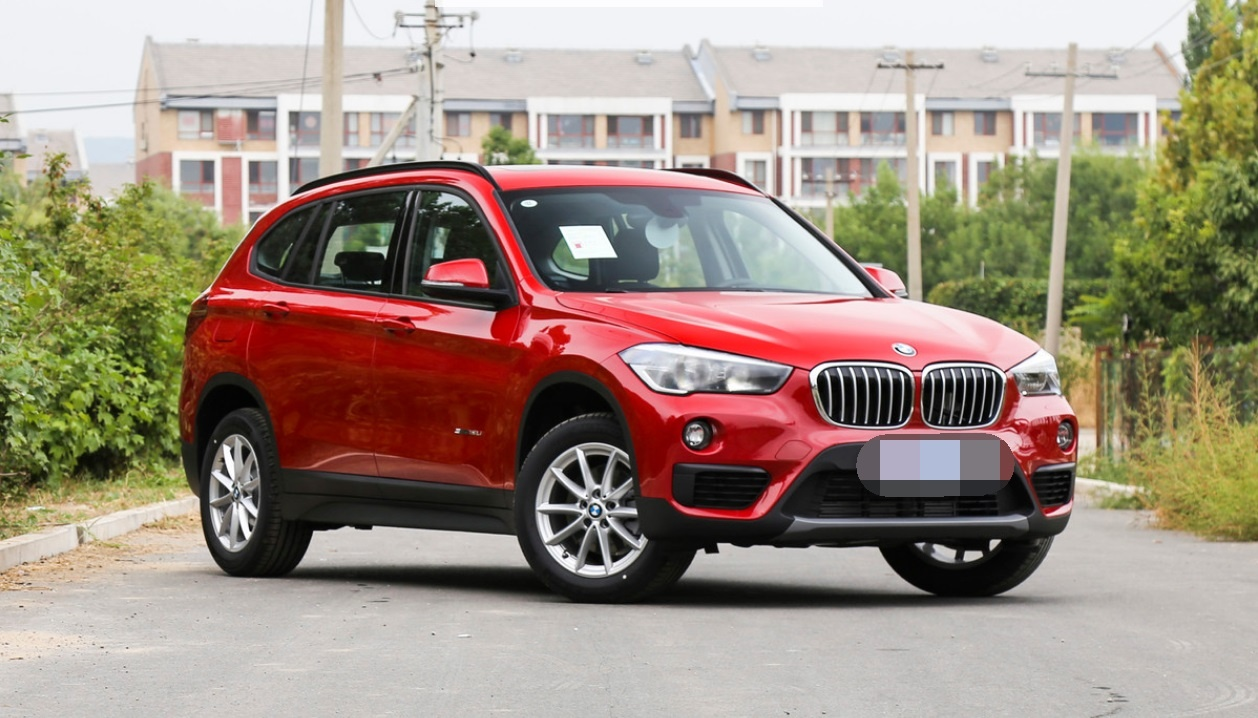SUV: (168, 144, 1093, 613)
